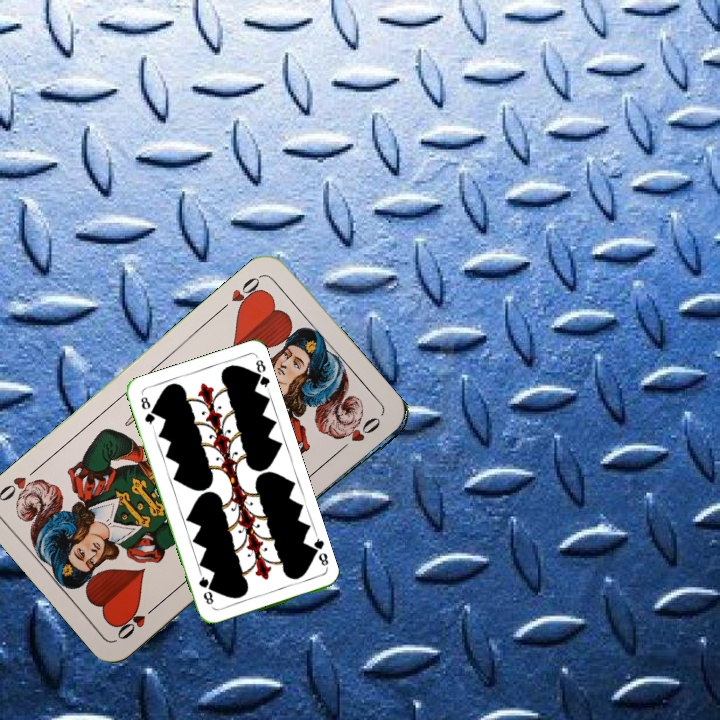G8: (306, 532, 331, 572), (136, 392, 158, 430)
HO: (215, 271, 267, 315), (113, 599, 162, 643)
